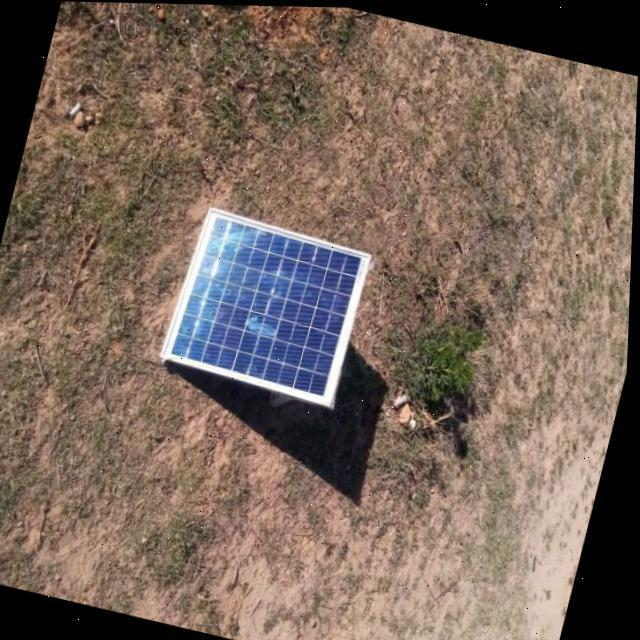Normal Solar Panel: (161, 203, 375, 404)
